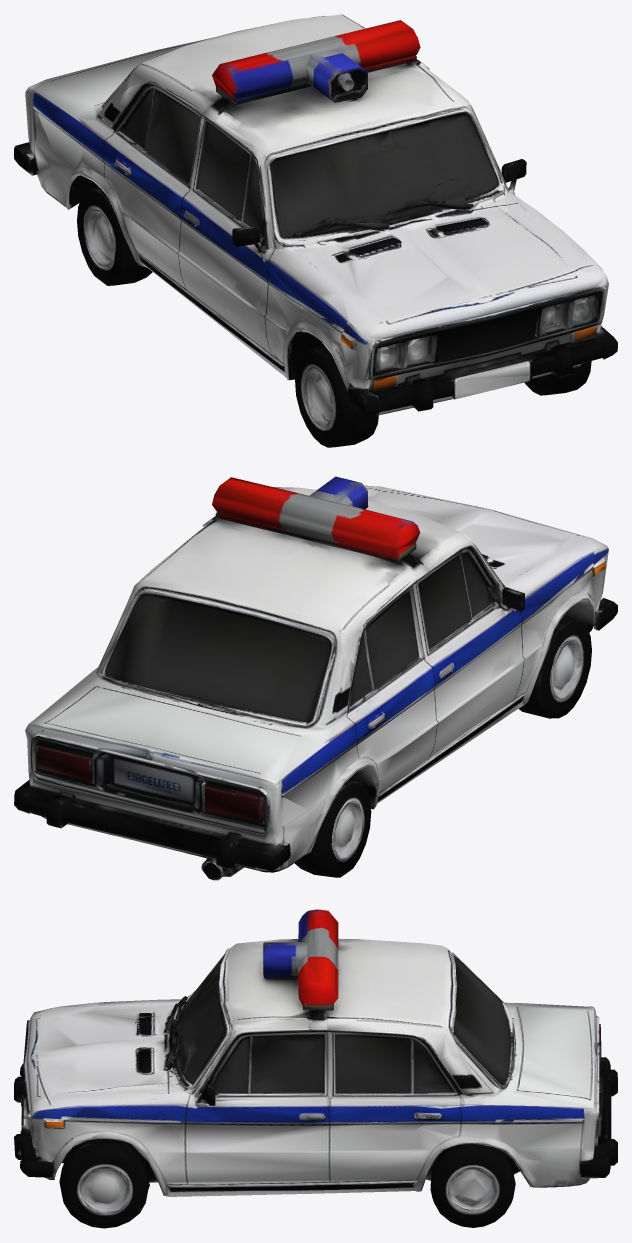
Rendered from vaz2106-gai.glb.
The picture shows the model from 3 angles, top to bottom: view 1: azimuth 30°, elevation 25°; view 2: azimuth 150°, elevation 25°; view 3: azimuth 270°, elevation 25°; orthographic projection. The views are drawn at different scales.
Visible parts, largest first — view 1: Body, Glass, Wheel_FR, Wheel_RR, BeaconRed, BeaconBlue; view 2: Body, Glass, BeaconRed, Wheel_FR, Wheel_RR, BeaconBlue; view 3: Body, Glass, Wheel_FL, Wheel_RL, BeaconRed, BeaconBlue.
Part boxes in pixels (box(x1,y1,x2,y2)): Body: box(14, 14, 617, 431); Glass: box(97, 69, 594, 329); Wheel_FR: box(295, 349, 378, 447); Wheel_RR: box(77, 190, 152, 285); BeaconRed: box(212, 20, 420, 99); BeaconBlue: box(231, 49, 367, 96); Body: box(14, 481, 617, 880); Glass: box(38, 488, 592, 787); BeaconRed: box(212, 477, 420, 556); Wheel_FR: box(519, 620, 591, 718); Wheel_RR: box(314, 779, 371, 877); BeaconBlue: box(311, 476, 368, 508); Body: box(14, 910, 617, 1216); Glass: box(33, 955, 597, 1112); Wheel_FL: box(61, 1139, 157, 1228); Wheel_RL: box(426, 1148, 519, 1227); BeaconRed: box(298, 909, 338, 1005); BeaconBlue: box(263, 911, 307, 974).
Size of the model in its own units: 1.95 by 1.78 by 4.17.
Materials: 4 (4 with a texture image).
